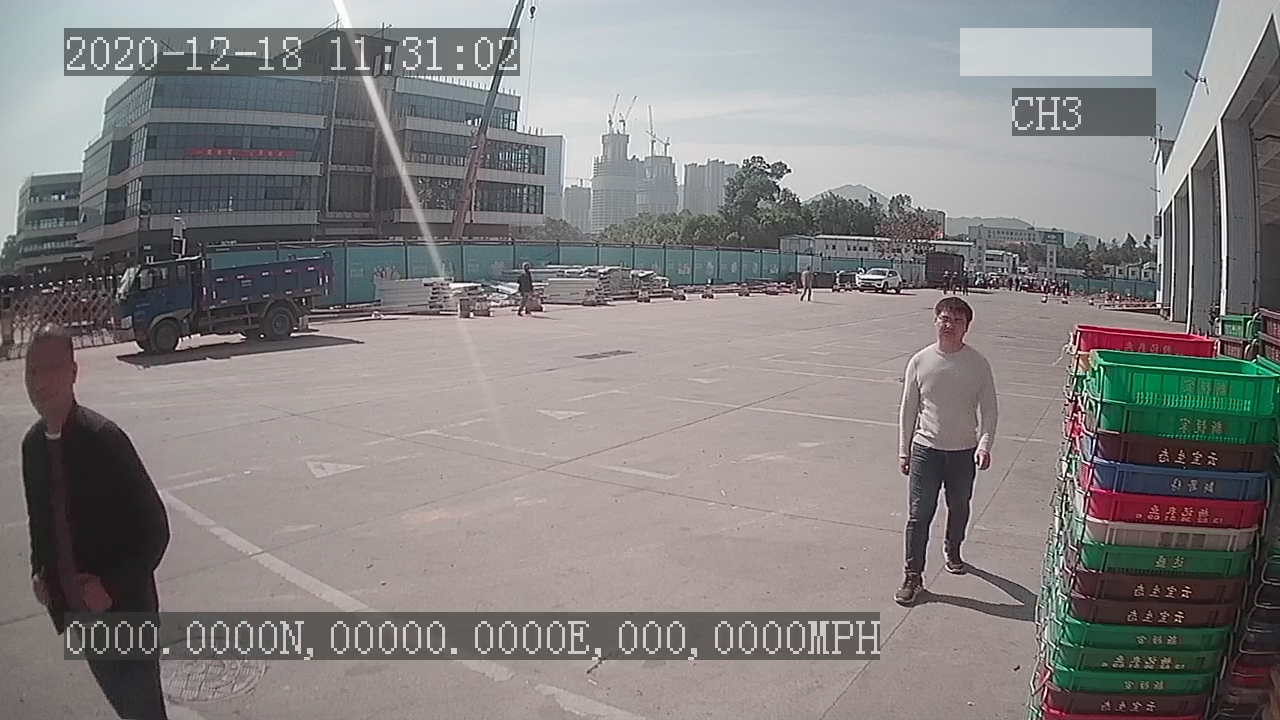person: (890, 290, 1002, 611)
